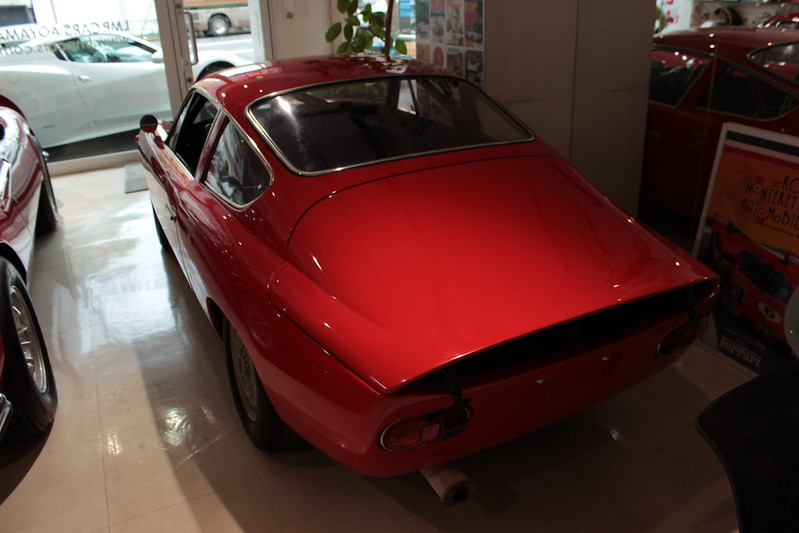car: (137, 53, 723, 504), (1, 37, 251, 143)
